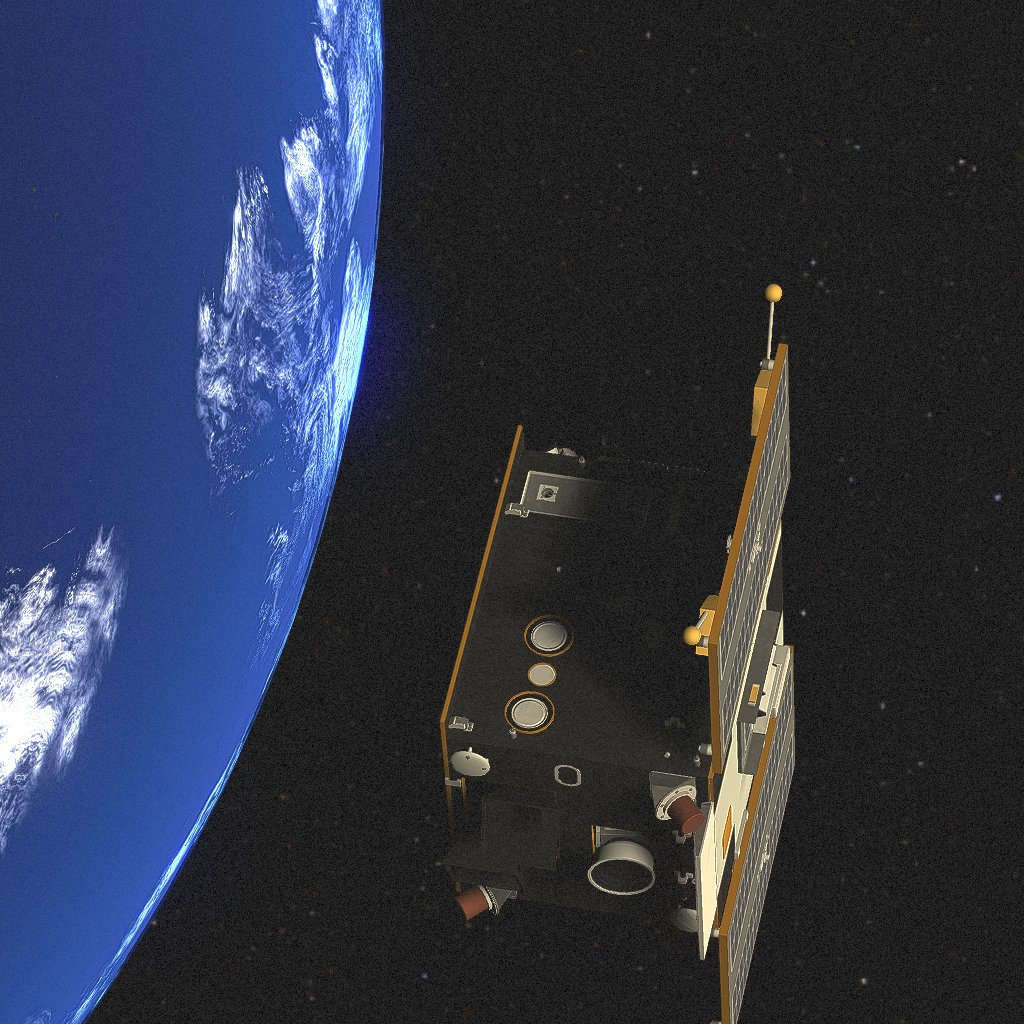proba_2: (440, 284, 795, 1024)
